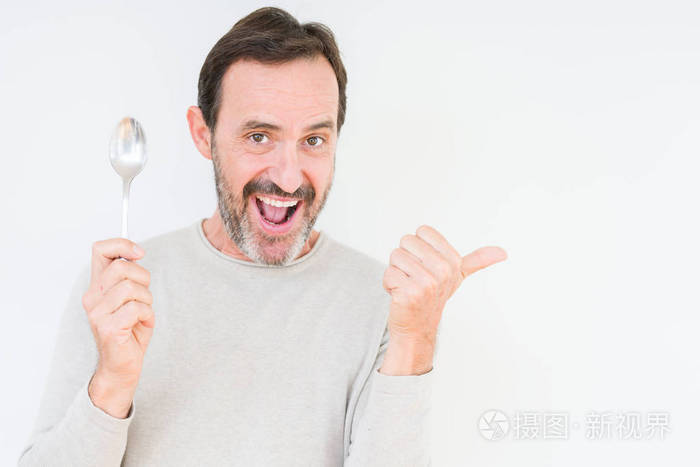no-phone: (79, 112, 164, 390)
